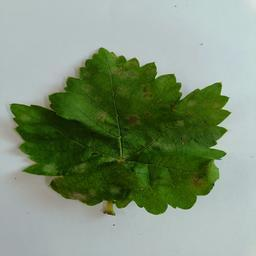Powdery-Mildew: (70, 141, 130, 174), (190, 166, 218, 194), (112, 63, 139, 90), (131, 161, 152, 189), (130, 109, 147, 126), (138, 83, 155, 99), (44, 158, 60, 174)
